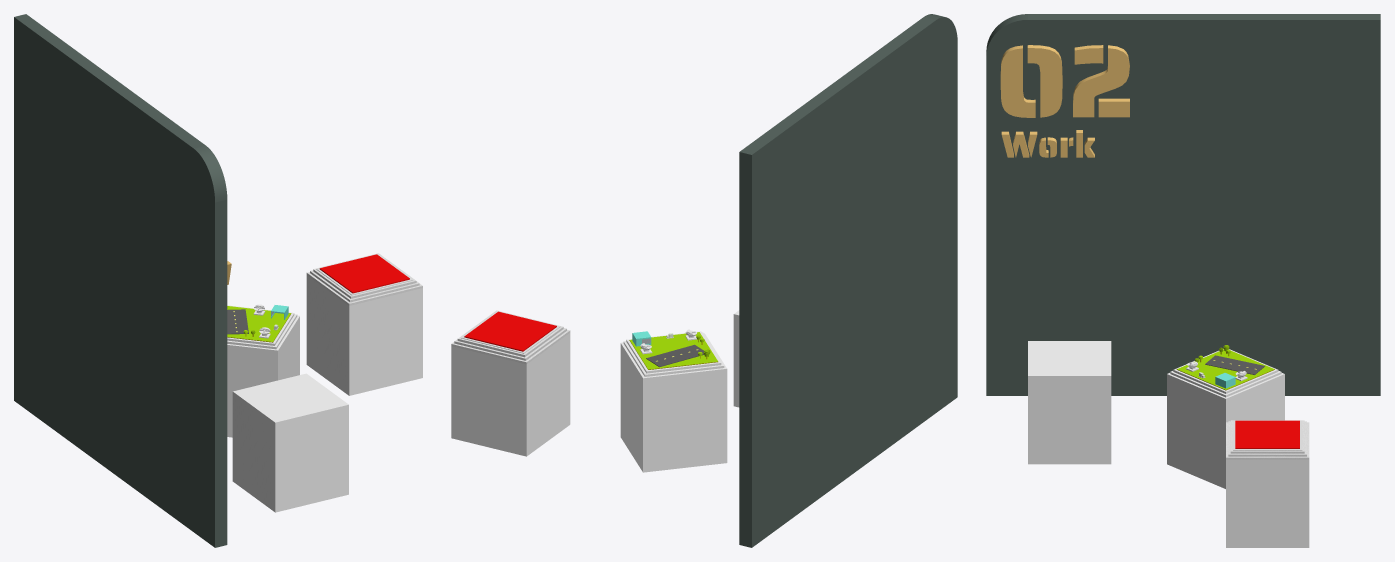
Rendered from floor2.glb.
3 views of the same model, side by side, from view 1: azimuth 30°, elevation 25°; view 2: azimuth 150°, elevation 25°; view 3: azimuth 270°, elevation 25° (orthographic). The views are drawn at different scales.
Parts seen in each view (by area): view 1: group_1, group_4, group_44, group_39, group_43, group_12.003, group_42.002, group_28, group_42; view 2: group_1, group_44, group_39, group_43, group_12.003, group_4, group_28, group_42.002; view 3: group_1, group_4, group_44, group_39, instance_0.003, group_43, instance_0, instance_0.001, group_12.003, instance_0.004, group_28, group_12.002 (+5 smaller).
Part boxes in pixels (box(x1,y1,x2,y2)): group_1: box(14, 14, 227, 547); group_4: box(232, 373, 348, 512); group_44: box(306, 275, 422, 395); group_39: box(227, 318, 299, 437); group_43: box(319, 254, 409, 293); group_12.003: box(227, 306, 291, 341); group_42.002: box(313, 253, 416, 298); group_28: box(227, 309, 248, 334); group_42: box(306, 272, 422, 305); group_1: box(739, 14, 957, 547); group_44: box(451, 333, 570, 456); group_39: box(620, 345, 727, 472); group_43: box(464, 311, 556, 351); group_12.003: box(629, 332, 717, 369); group_4: box(733, 310, 739, 407); group_28: box(646, 344, 704, 367); group_42.002: box(457, 310, 563, 357); group_1: box(986, 14, 1380, 395); group_4: box(1028, 341, 1111, 464); group_44: box(1226, 459, 1309, 547); group_39: box(1167, 376, 1284, 488); instance_0.003: box(1073, 45, 1129, 117); group_43: box(1235, 420, 1299, 448); instance_0: box(1027, 45, 1062, 117); instance_0.001: box(1000, 45, 1035, 117); group_12.003: box(1177, 349, 1274, 389); instance_0.004: box(1098, 98, 1129, 117); group_28: box(1205, 355, 1264, 374); group_12.002: box(1173, 349, 1278, 393).
Bounding box in the file's own units: 2.74 × 3.05 × 2.9.
